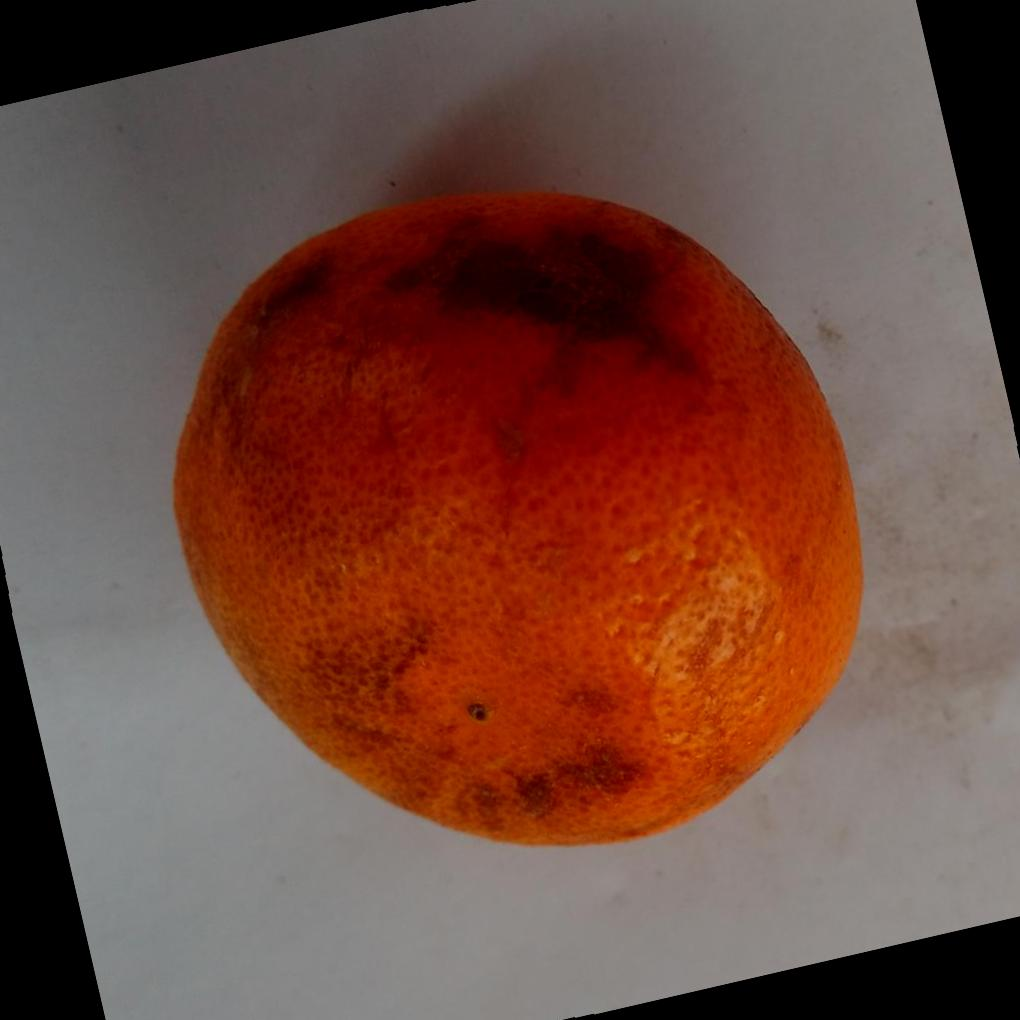FreshOrange: (168, 185, 864, 846)
